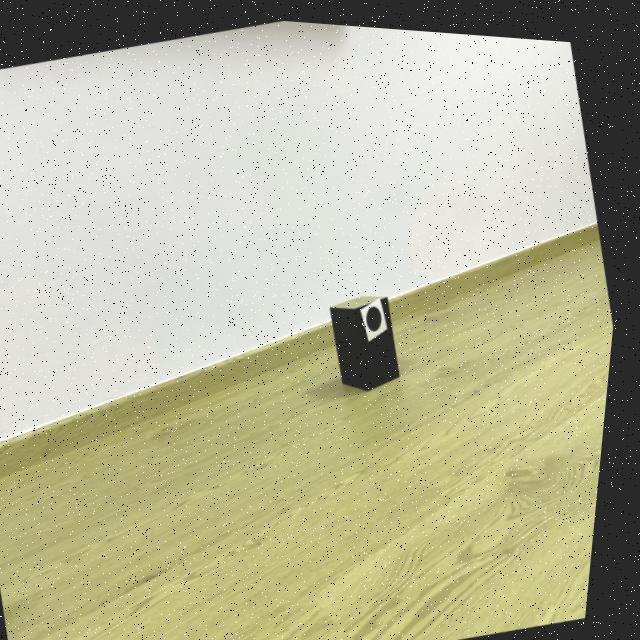CIRCLE: (371, 299, 388, 325)
